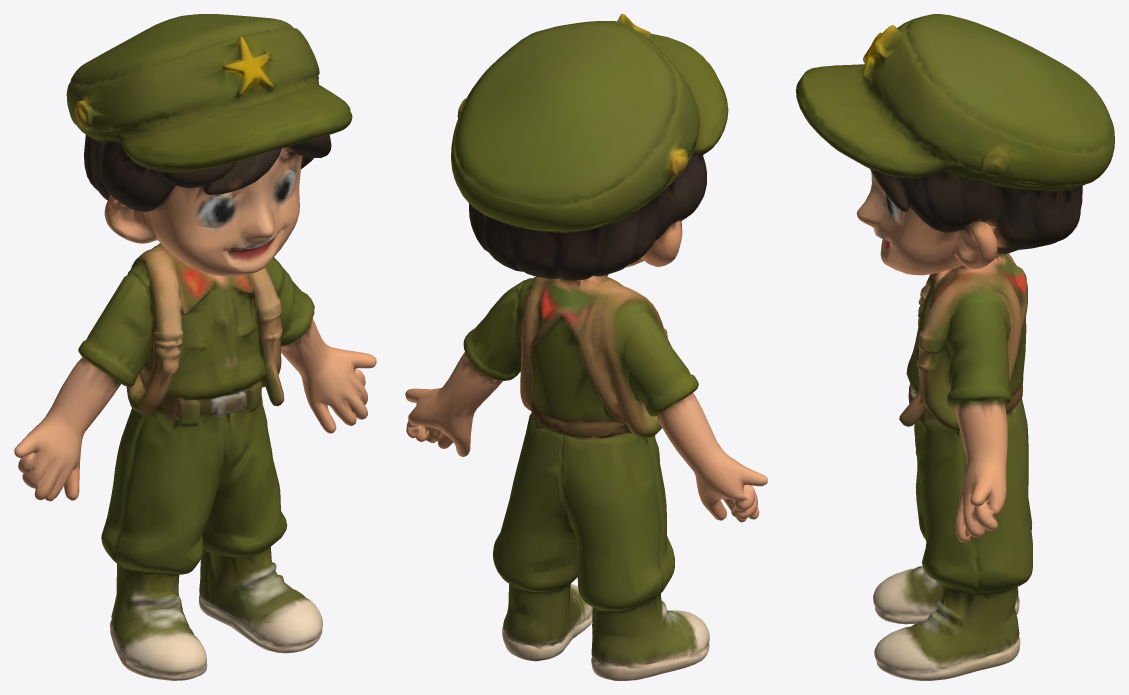
The model's file is cadet-original.glb.
3 views of the same model, side by side, from view 1: azimuth 30°, elevation 25°; view 2: azimuth 150°, elevation 25°; view 3: azimuth 270°, elevation 25° (orthographic).
Parts seen in each view (by area): view 1: cadet; view 2: cadet; view 3: cadet.
Boxes of the visible parts, <box> form: cadet: <box>14,14,376,680</box>; cadet: <box>405,14,767,680</box>; cadet: <box>796,14,1114,680</box>.
Bounding box in the file's own units: 1.13 × 1.85 × 0.867.
Materials: 1 (1 with a texture image).
